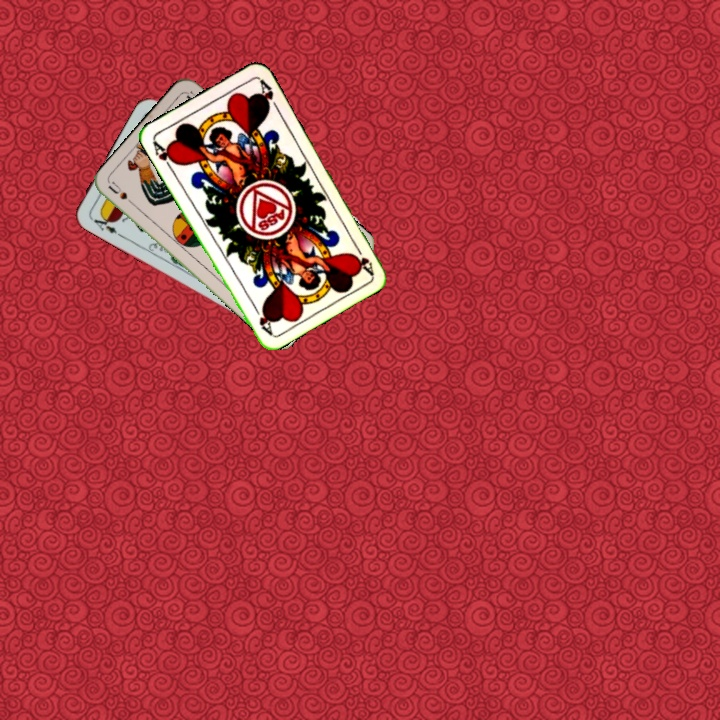EA: (87, 210, 119, 236)
HA: (148, 137, 179, 174), (349, 239, 376, 277)
SU: (104, 178, 140, 211)
